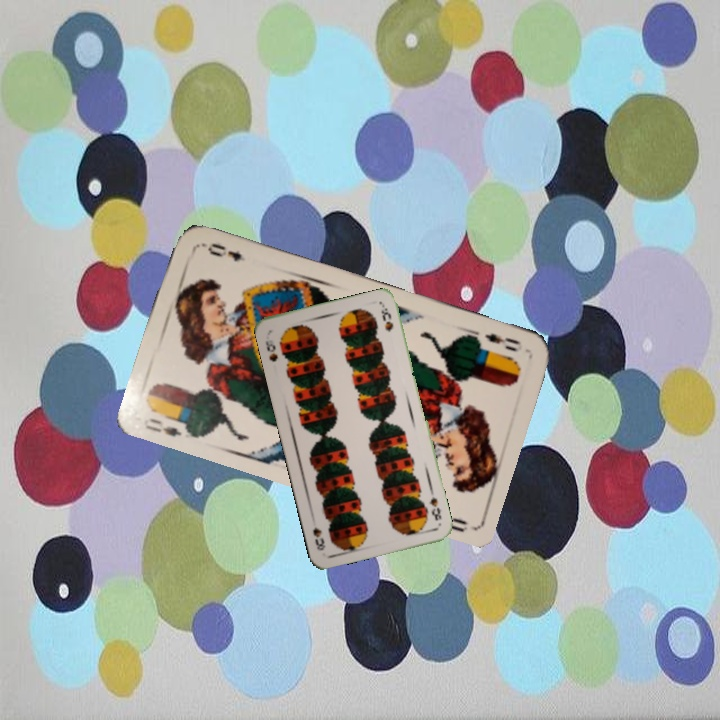EO: (139, 414, 184, 439), (481, 329, 523, 354)
S8: (261, 335, 281, 364), (425, 493, 444, 523)
